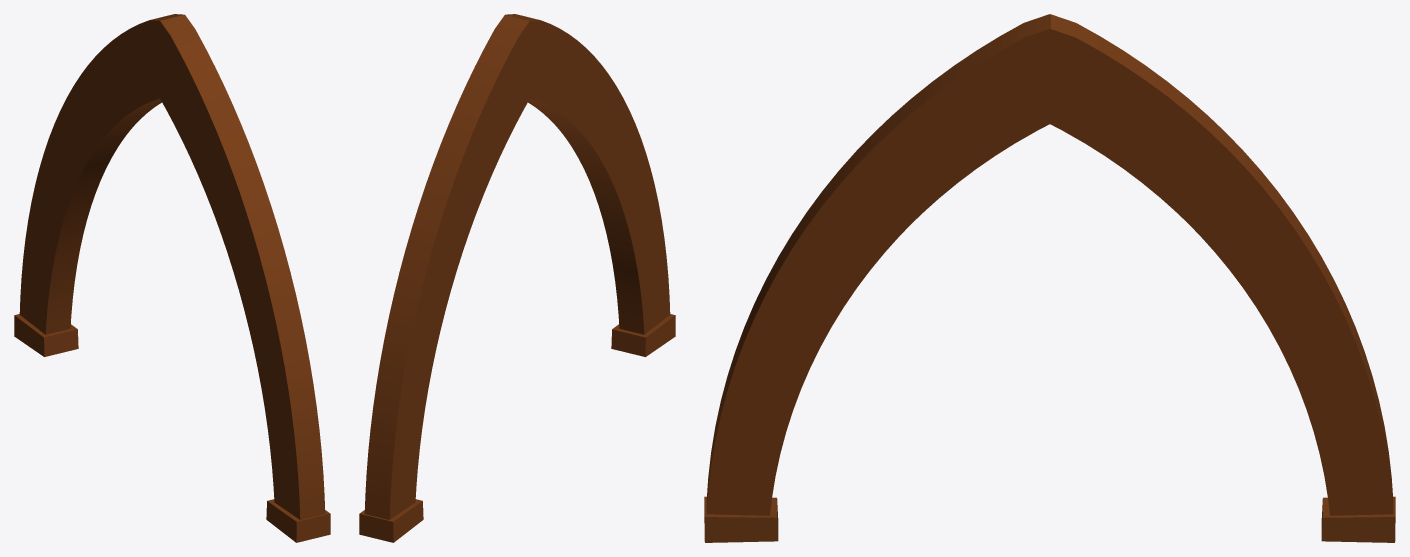
The model's file is Pillar_Arch_Blockout_01.fbx.
3 views of the same model, side by side, from view 1: azimuth 30°, elevation 25°; view 2: azimuth 150°, elevation 25°; view 3: azimuth 270°, elevation 25° (orthographic). The views are drawn at different scales.
Parts seen in each view (by area): view 1: Pillar_Arch_Blockout_01; view 2: Pillar_Arch_Blockout_01; view 3: Pillar_Arch_Blockout_01.
Boxes of the visible parts, x1=… form: Pillar_Arch_Blockout_01: x1=14, y1=14, x2=330, y2=542; Pillar_Arch_Blockout_01: x1=359, y1=14, x2=675, y2=542; Pillar_Arch_Blockout_01: x1=704, y1=14, x2=1395, y2=542.
Size of the model in its own units: 70.89 by 827 by 1013.
